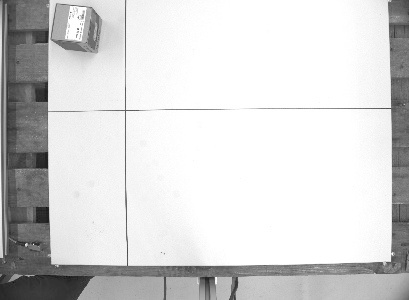b7: (46, 1, 103, 54)
